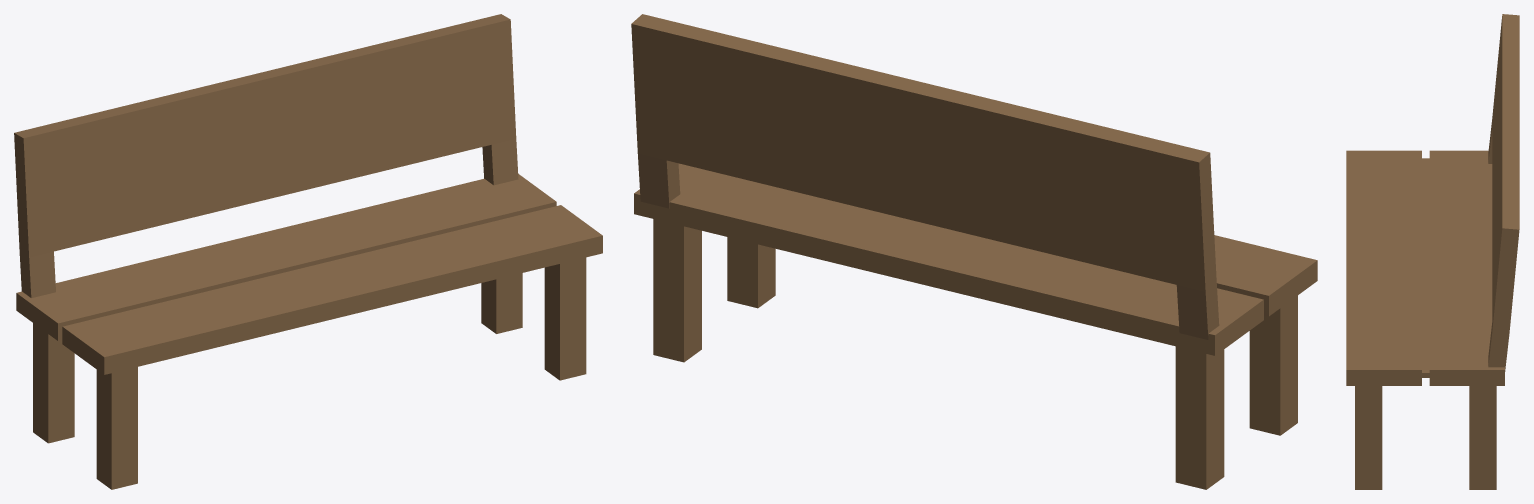
The model's file is bench_model.fbx.
The picture shows the model from 3 angles, left to right: view 1: azimuth 30°, elevation 25°; view 2: azimuth 150°, elevation 25°; view 3: azimuth 270°, elevation 25°; orthographic projection. The views are drawn at different scales.
Visible parts, largest first — view 1: Bench_01; view 2: Bench_01; view 3: Bench_01.
Boxes of the visible parts, <box> form: Bench_01: <box>14,14,602,489</box>; Bench_01: <box>631,14,1317,489</box>; Bench_01: <box>1346,14,1519,489</box>.
Bounding box in the file's own units: 185 × 104 × 61.64.
